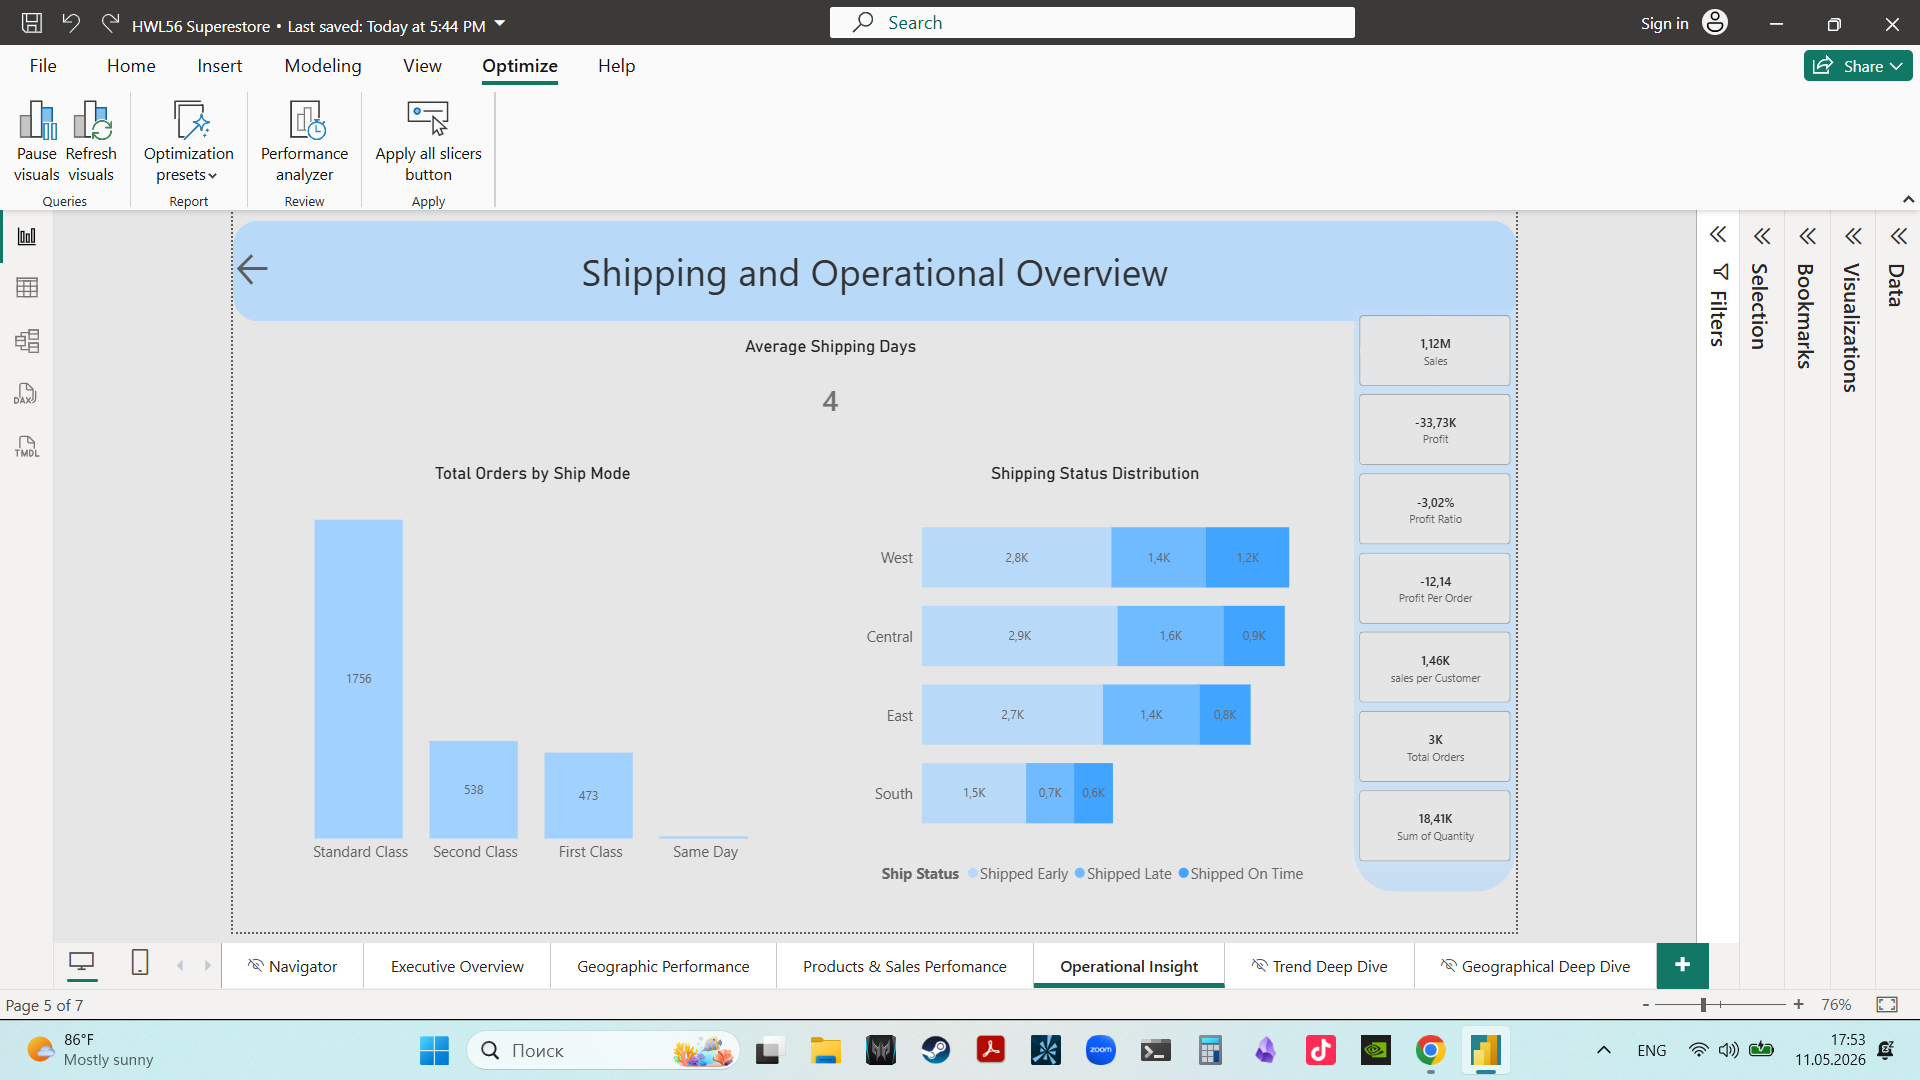

The dashboard page shown, as its layout file describes it:
{"tool":"powerbi","page":{"name":"Operational Insight","canvas":[1280,720],"ordinal":4},"visuals":[{"type":"barChart","title":"Shipping Status Distribution","fields":{"Category":["Sample - Superstore_Orders.Region"],"Series":["Sample - Superstore_Orders.Ship Status"],"Y":["Sum(Sample - Superstore_Orders.Quantity)"]},"box":[621.2,252.6,476.1,428.3],"z":0},{"type":"textbox","box":[0,0,1279.7,93.2],"z":1000},{"type":"columnChart","fields":{"Category":["Sample - Superstore_Orders.Ship Mode"],"Y":["Measure.Total Orders"]},"box":[30.7,252.6,537.6,407.9],"z":2000},{"type":"cardVisual","title":"Average Shipping Days","fields":{"Data":["Calendar.ShipppinDays"]},"box":[501.7,126.3,189.4,105.8],"z":3000},{"type":"shape","box":[0,10,1280.3,100.6],"z":4000},{"type":"shape","box":[1118.2,29.3,161.7,651.1],"z":5000},{"type":"cardVisual","fields":{"Data":["Measure.Sales","Measure.Profit","Measure.Profit Ratio","Measure.Profit per Order","Measure.sales per Customer","Measure.Total Orders","Sum(Sample - Superstore_Orders.Quantity)"]},"box":[1118.2,99,161.7,561.9],"z":6000},{"type":"actionButton","box":[0,39.3,99.5,40.6],"z":7000}]}

Visuals, with their boxes on the page's 1280x720 design canvas (x1, y1, x2, y2). These are canvas units, not pixel positions in the 1920x1080 screenshot, which may show the page scaled, cropped or inside an application window:
"Shipping Status Distribution" barChart: l=621, t=253, r=1097, b=681
textbox: l=0, t=0, r=1280, b=93
columnChart - Sample - Superstore_Orders.Ship Mode x Measure.Total Orders: l=31, t=253, r=568, b=660
"Average Shipping Days" cardVisual: l=502, t=126, r=691, b=232
shape: l=0, t=10, r=1280, b=111
shape: l=1118, t=29, r=1280, b=680
cardVisual - Measure.Sales x Measure.Profit: l=1118, t=99, r=1280, b=661
actionButton: l=0, t=39, r=100, b=80
